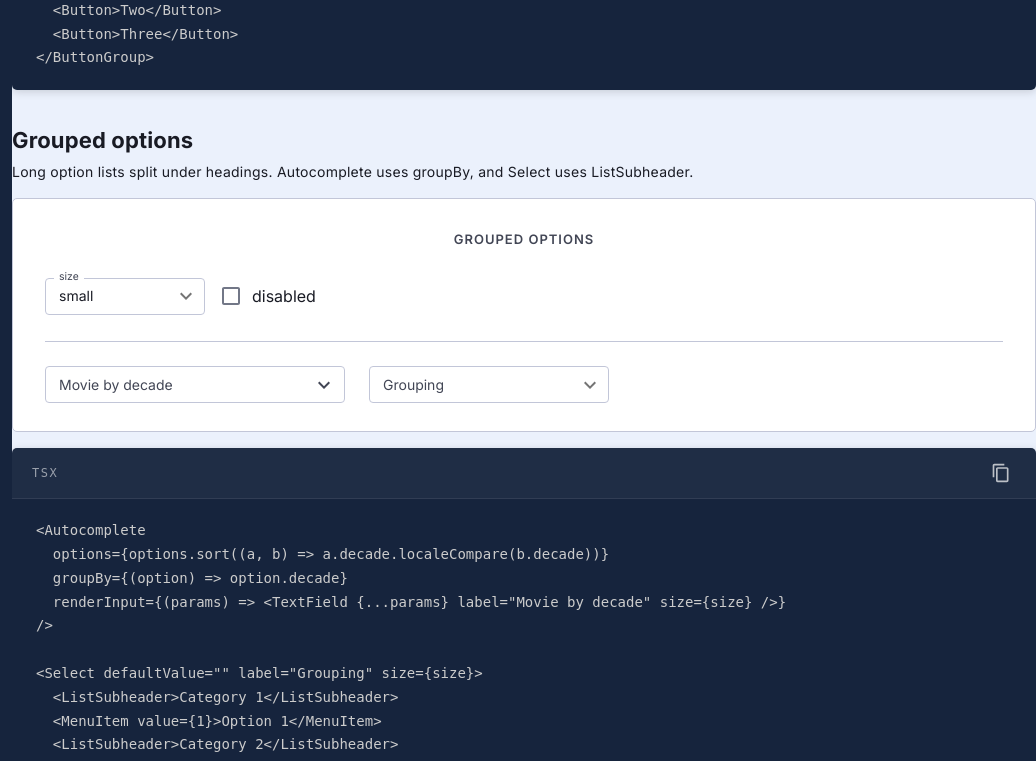
Scenario: GroupedInputsDemo › shows group headings in the grouped Autocomplete and Select
(page scrolled)
Press the mouse on the dropdown labelled "Movie by decade": (178, 385) [51,372,306,397]
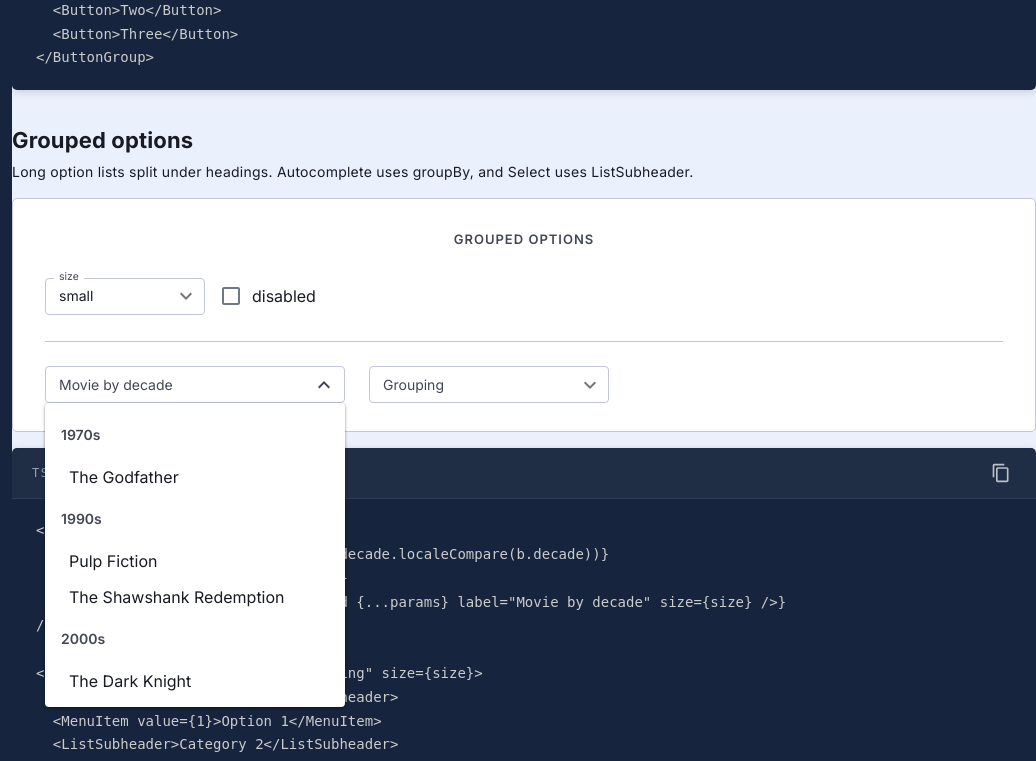
Expected: the text "1970s" is shown, [45,411,345,459]
Expected: the text "1990s" is shown, [45,495,345,543]
Expected: the text "2000s" is shown, [45,615,345,663]
Press Escape in the dropdown labelled "Movie by decade", box [51,372,306,397]
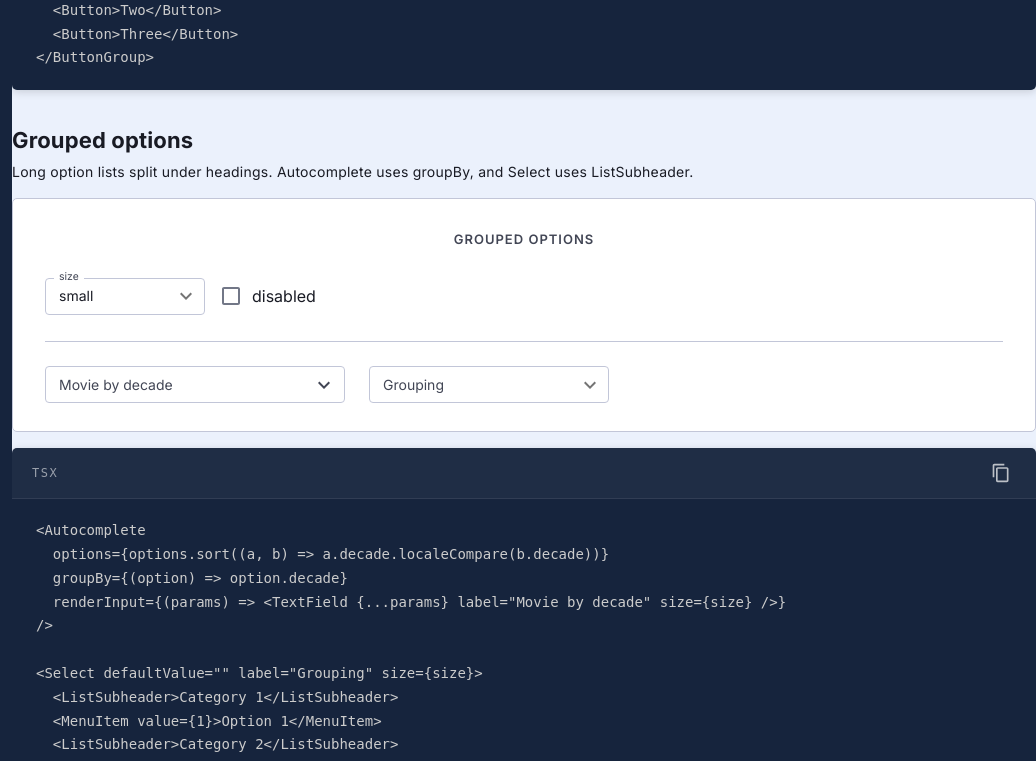
Press the mouse on the dropdown named "Grouping": (489, 385) [369,366,609,403]
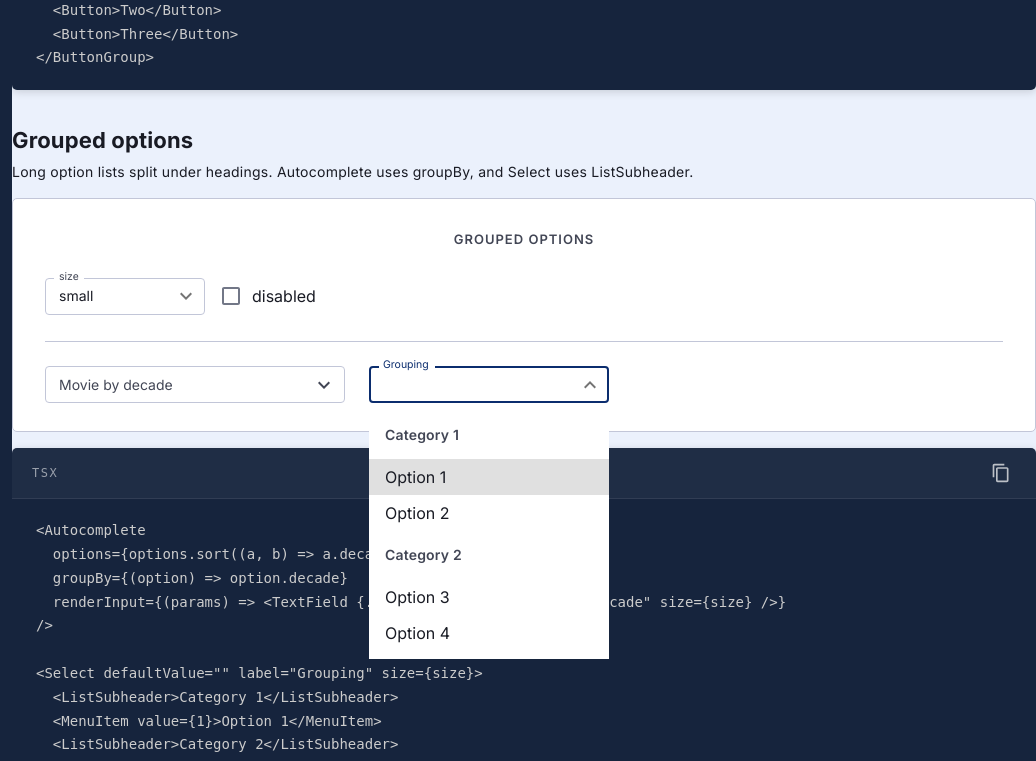
Expected: the option "Category 1" is shown, [369,411,609,459]
Expected: the option "Category 2" is shown, [369,531,609,579]
